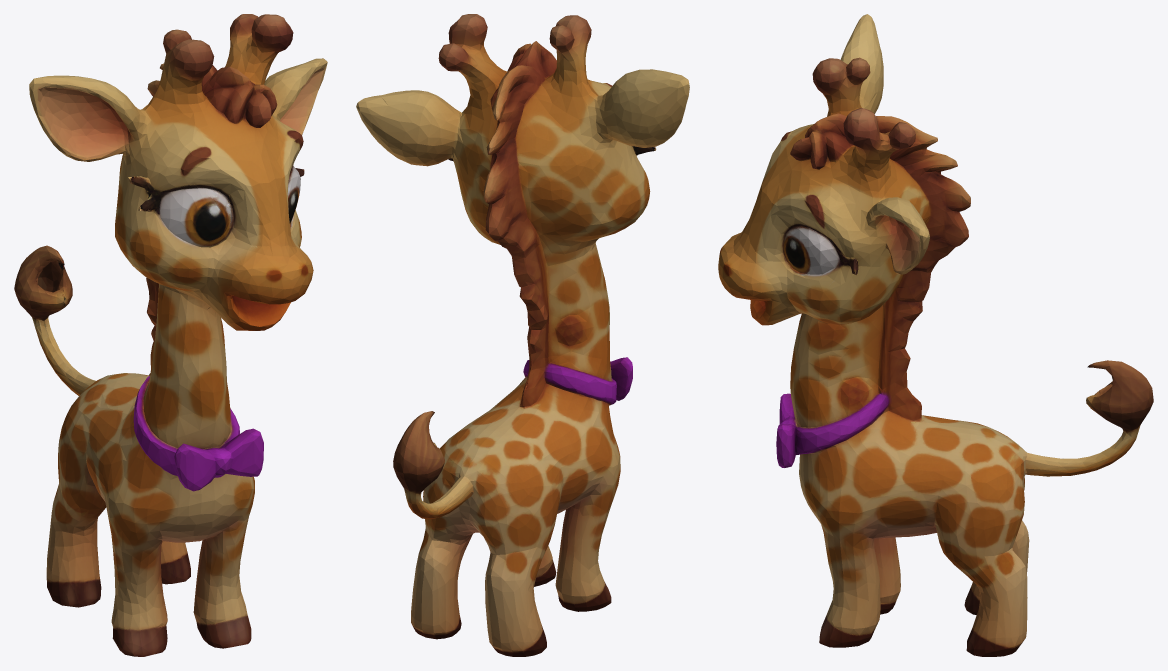
The model's file is giraffe.glb.
The picture shows the model from 3 angles, left to right: view 1: azimuth 30°, elevation 25°; view 2: azimuth 150°, elevation 25°; view 3: azimuth 270°, elevation 25°; orthographic projection. The views are drawn at different scales.
Visible parts, largest first — view 1: world; view 2: world; view 3: world.
Part boxes in pixels (x1,y1,x2,y2): world: [14, 14, 327, 656]; world: [356, 14, 689, 656]; world: [718, 14, 1153, 656].
Bounding box in the file's own units: 0.5622 × 1 × 0.703.
Materials: 1 (1 with a texture image).
